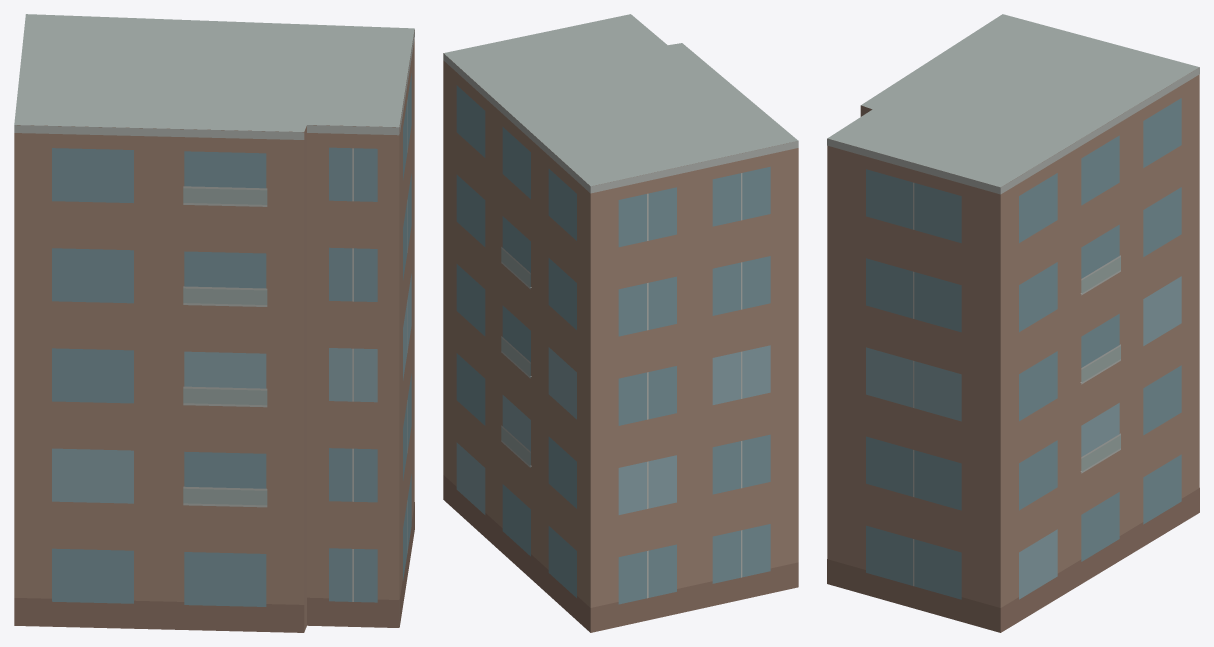
File: survey-upis-32616384.glb
3 renders of one model, left to right at view 1: azimuth 30°, elevation 25°; view 2: azimuth 150°, elevation 25°; view 3: azimuth 270°, elevation 25°, orthographic. The views are drawn at different scales.
Visible parts, largest first — view 1: survey-upis-32616384.tmp; view 2: survey-upis-32616384.tmp; view 3: survey-upis-32616384.tmp.
Boxes of the visible parts, x1,y1,x2,y2 form: survey-upis-32616384.tmp: [14, 14, 414, 632]; survey-upis-32616384.tmp: [443, 14, 798, 632]; survey-upis-32616384.tmp: [827, 14, 1199, 632].
Size of the model in its own units: 12.74 by 15.25 by 11.57.
